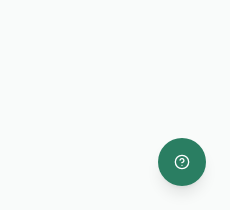
Test case: HelpWidget › opens menu on click
Click the button named "Help openen" at (182, 162), box [158, 138, 206, 186]
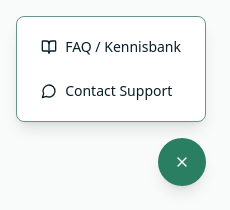
Check: the button "FAQ / Kennisbank" is shown, box [29, 29, 193, 65]
Check: the button "Contact Support" is shown, box [29, 73, 193, 109]
